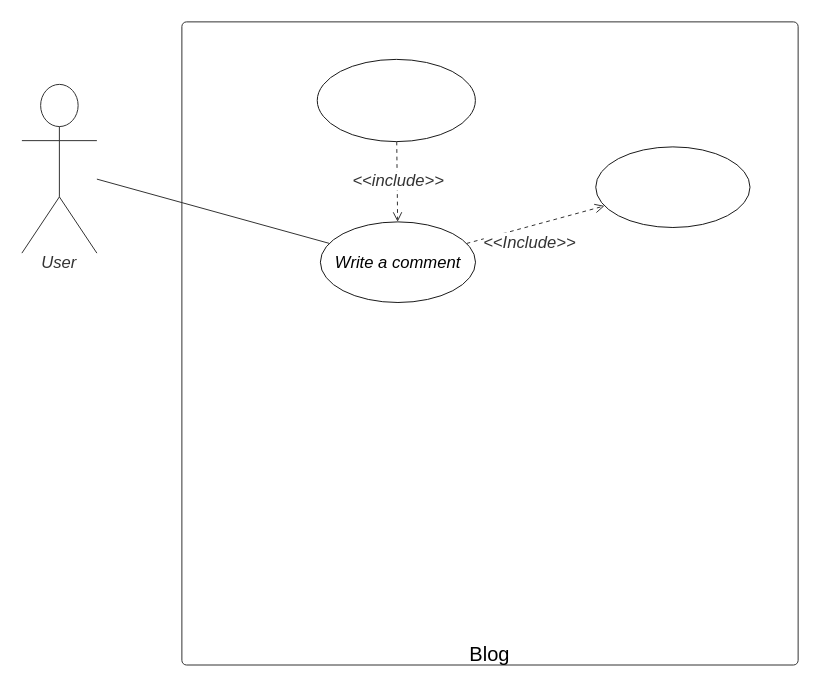
Image size: 820x688. Some labels were removed from this diagram. The centre of each missing label's shape, as x and y in pixels:
"Authenticate" belongs at [672,186].
"Consult a figure" belongs at [395,100].
